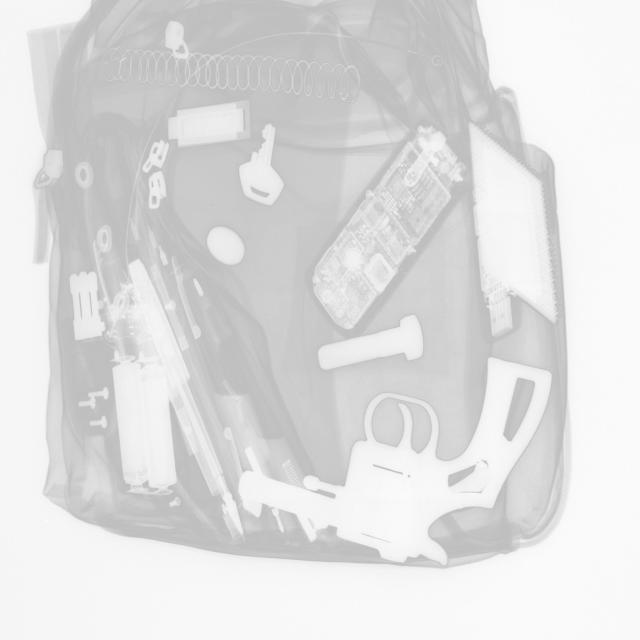pistol: (233, 351, 554, 561)
